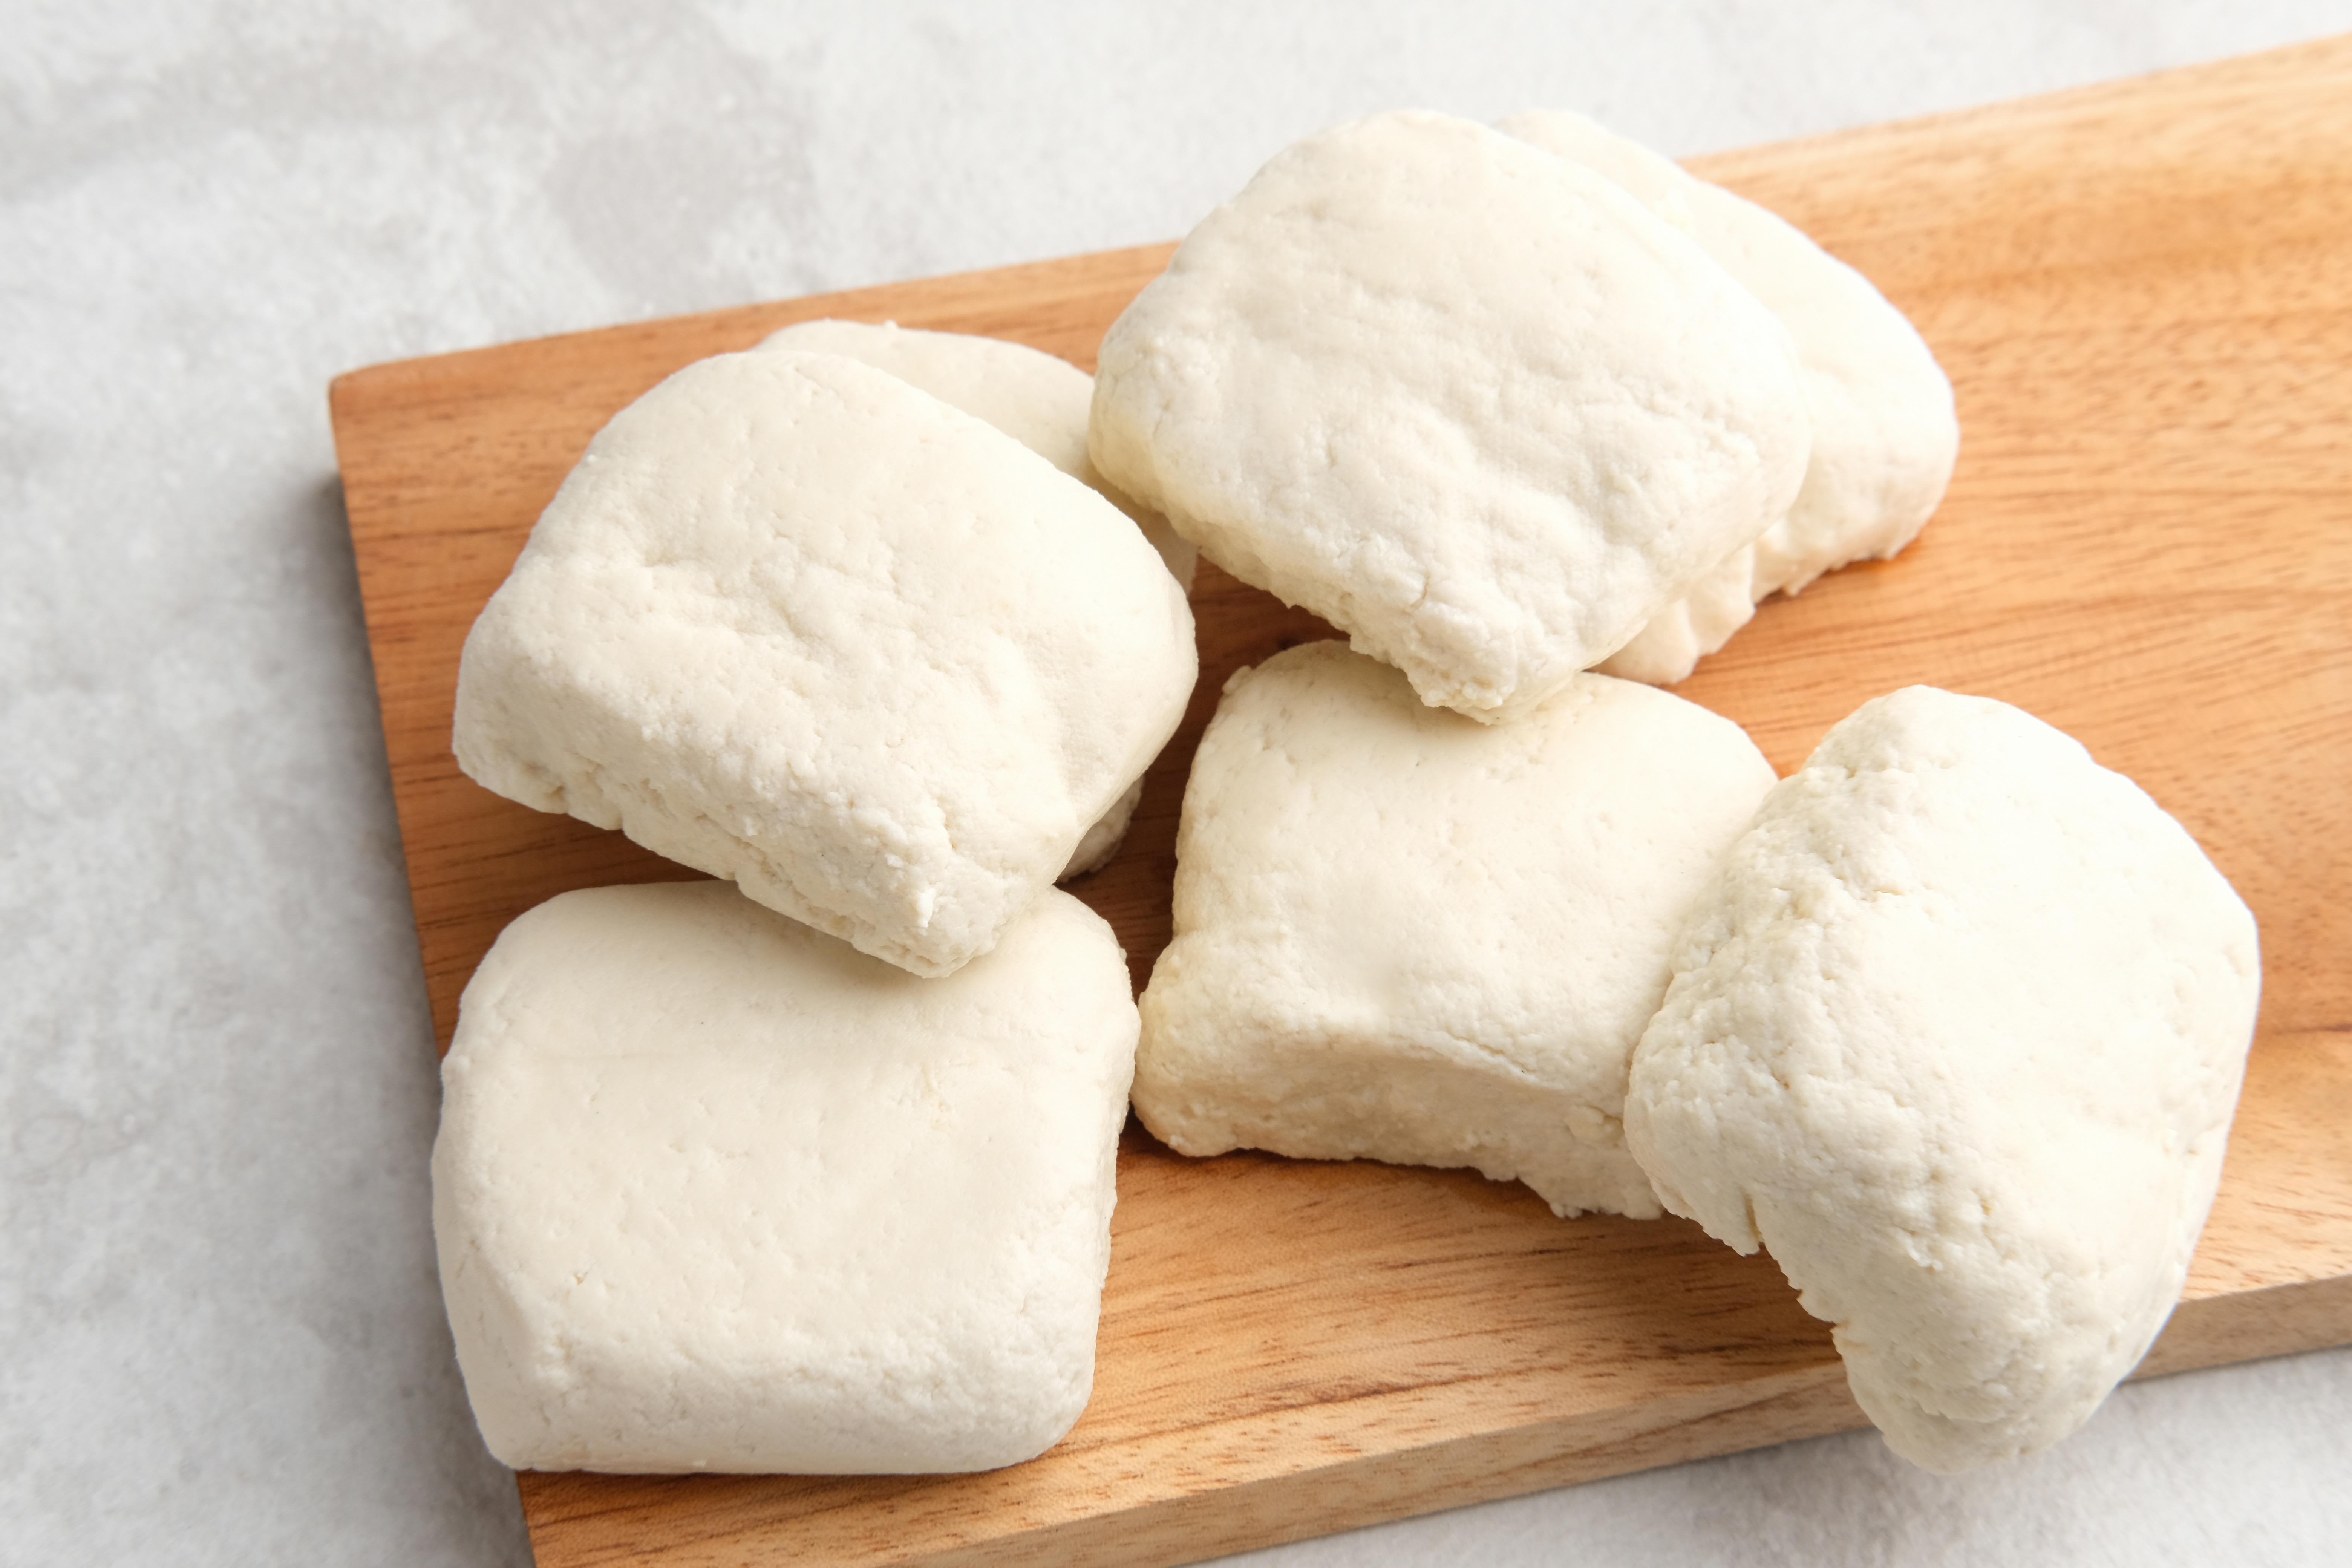Tahu: (1641, 728, 2268, 1382), (1067, 177, 1862, 688), (429, 891, 1195, 1353), (492, 392, 1157, 868), (1244, 681, 1743, 1082)
